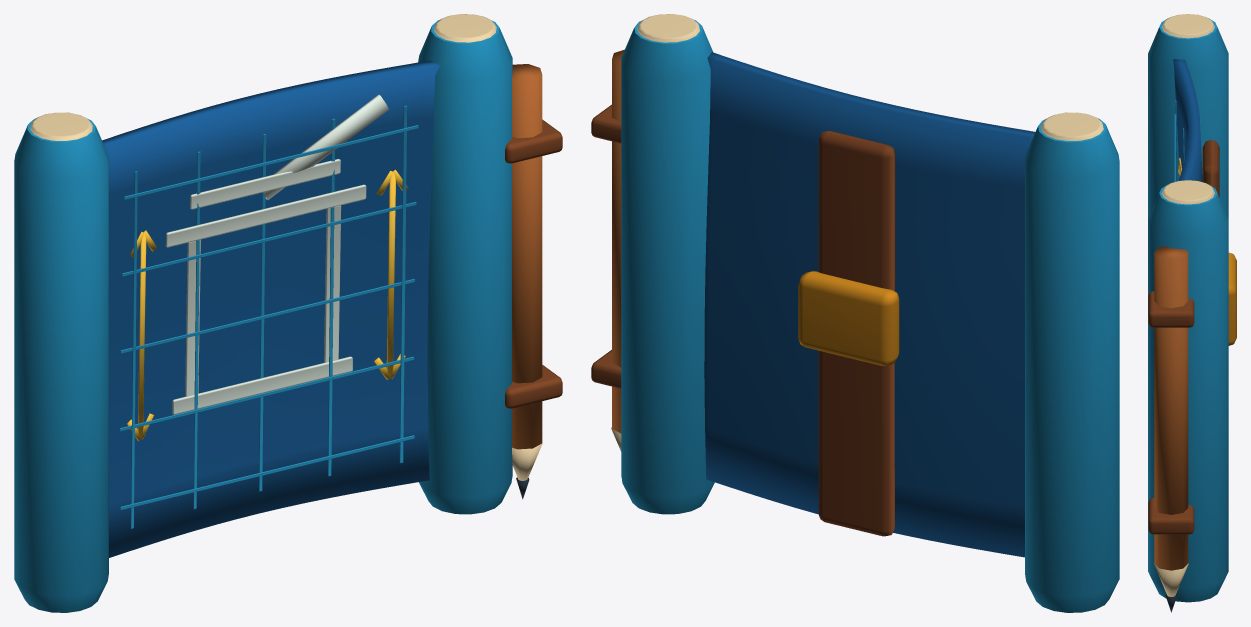
The model's file is rebuild_blueprint.glb.
The picture shows the model from 3 angles, left to right: view 1: azimuth 30°, elevation 25°; view 2: azimuth 150°, elevation 25°; view 3: azimuth 270°, elevation 25°; orthographic projection. The views are drawn at different scales.
Parts seen in each view (by area): view 1: rebuild_blueprint_runtime; view 2: rebuild_blueprint_runtime; view 3: rebuild_blueprint_runtime.
Boxes of the visible parts, <box> form: rebuild_blueprint_runtime: <box>14,14,562,612</box>; rebuild_blueprint_runtime: <box>591,14,1119,612</box>; rebuild_blueprint_runtime: <box>1148,14,1236,612</box>.
Bounding box in the file's own units: 1.3 × 1.14 × 0.2275.
Materials: 1 (1 with a texture image).
